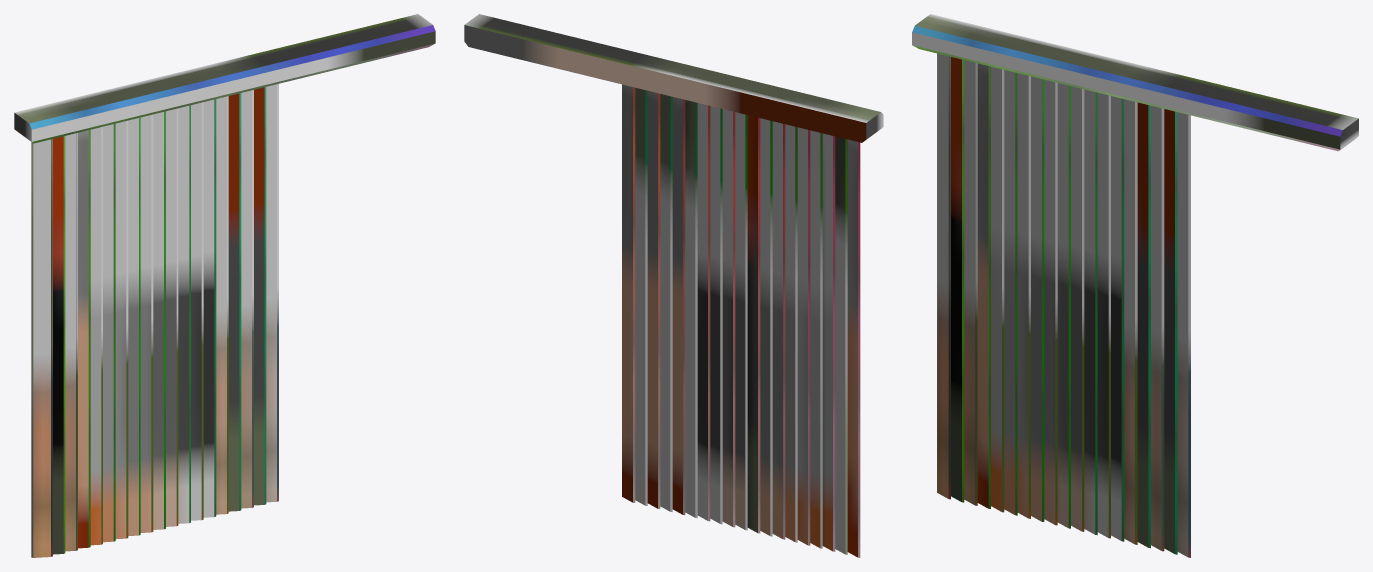
File: Curtain4.glb
3 views of the same model, side by side, from view 1: azimuth 30°, elevation 25°; view 2: azimuth 150°, elevation 25°; view 3: azimuth 330°, elevation 25° (orthographic). The views are drawn at different scales.
Parts seen in each view (by area): view 1: Curtain4; view 2: Curtain4; view 3: Curtain4.
Boxes of the visible parts, x1,y1,x2,y2 form: Curtain4: (14,14,435,557); Curtain4: (464,14,883,557); Curtain4: (912,14,1358,557).
Bounding box in the file's own units: 2 × 2.1 × 0.1498.
Materials: 1 (1 with a texture image).
